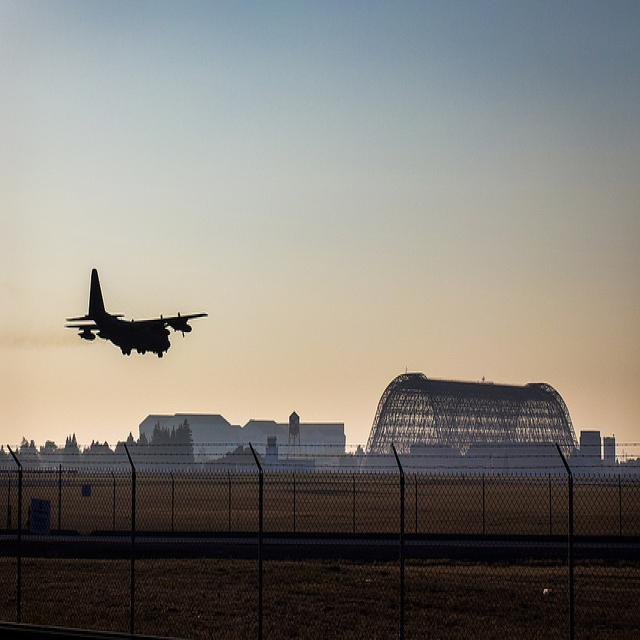airplane: (64, 266, 210, 360)
